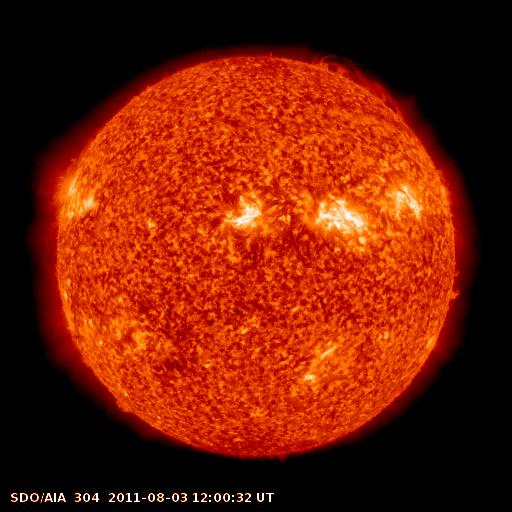prominence: (312, 47, 412, 120), (440, 267, 468, 308), (105, 391, 138, 421)
